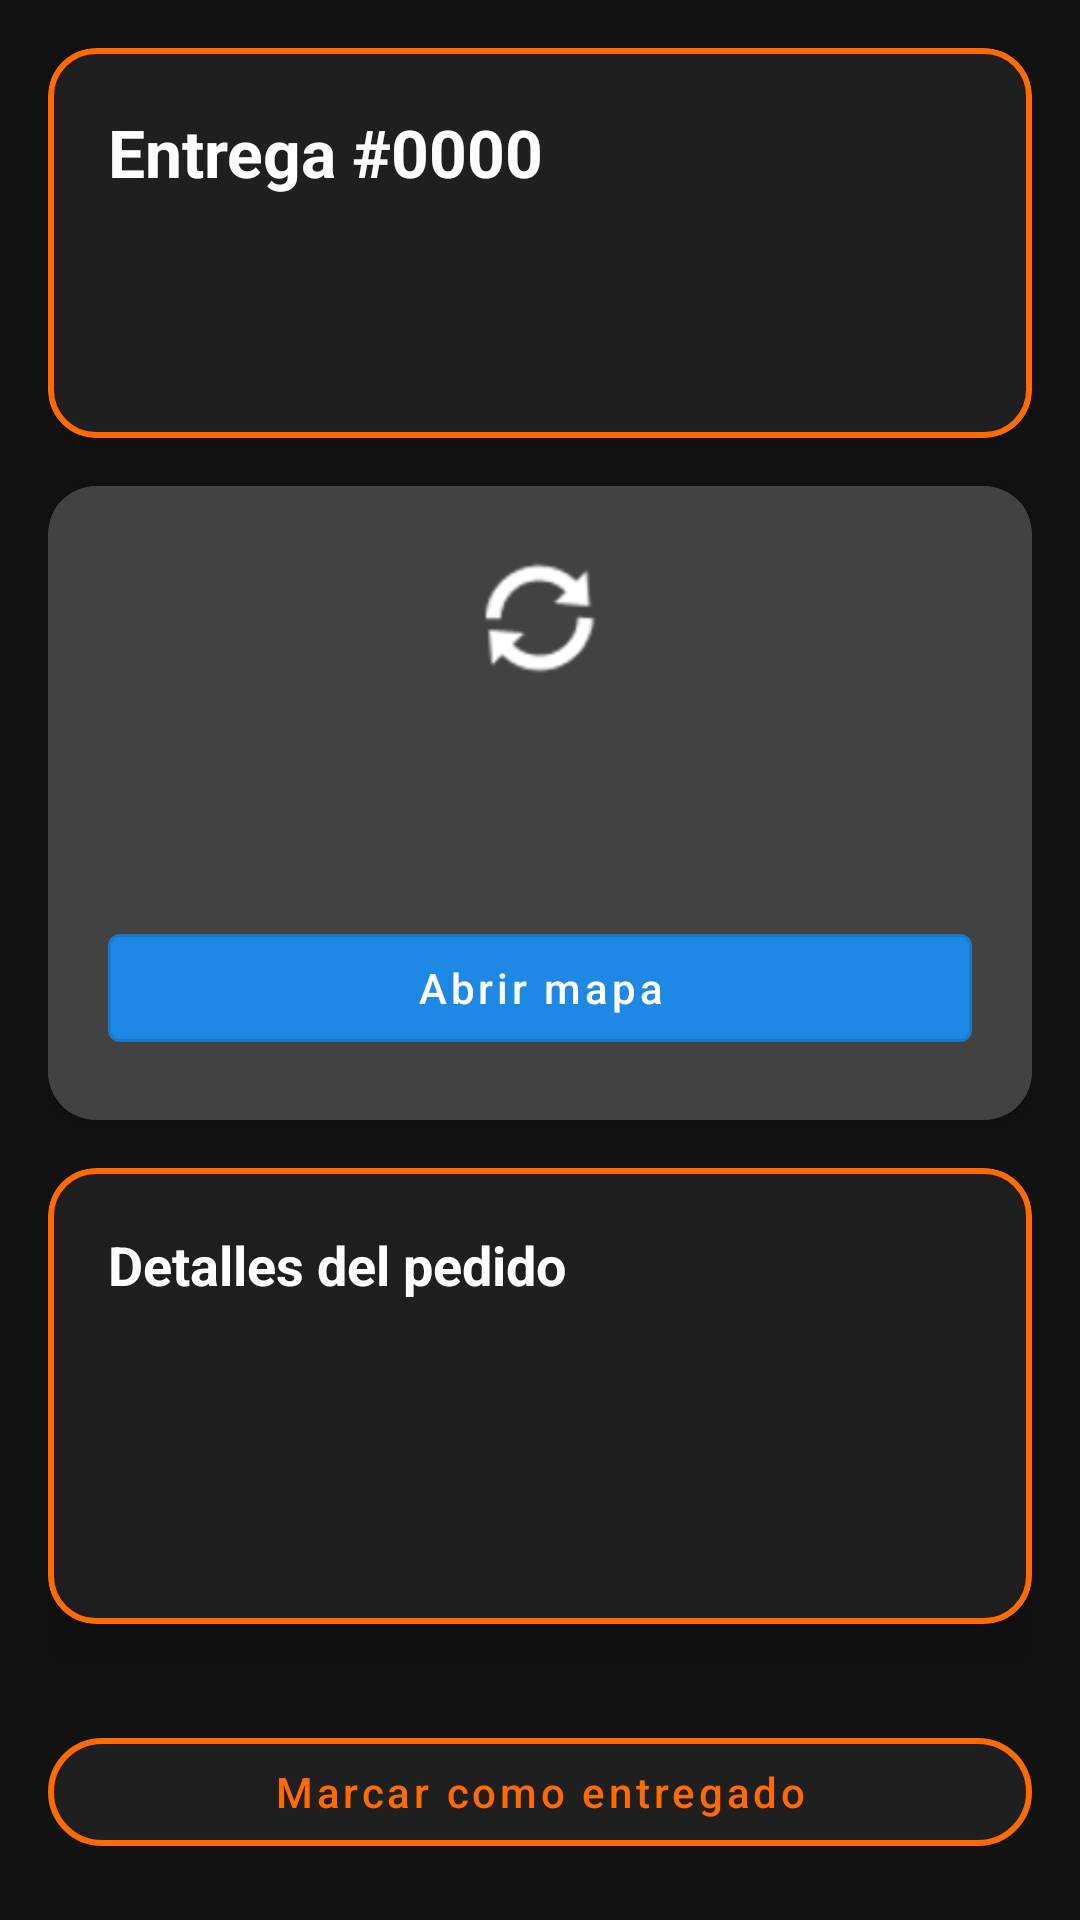

Icons on this 1080*1920 Android screen, each with its box as (x1, y1, x2, y2):
popup sync: (485, 564, 595, 672)
